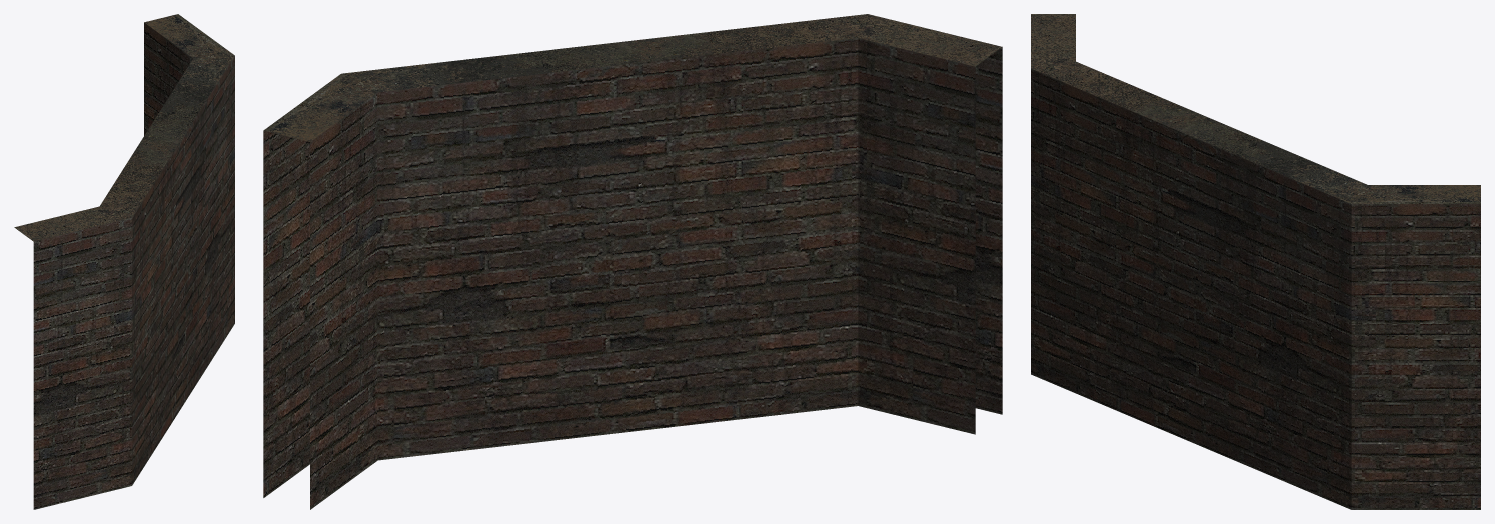
Rendered from wall_hs_1_m1a_1.glb.
3 views of the same model, side by side, from view 1: azimuth 30°, elevation 25°; view 2: azimuth 150°, elevation 25°; view 3: azimuth 270°, elevation 25° (orthographic). The views are drawn at different scales.
Visible parts, largest first — view 1: wall_hs_1_m1a_1; view 2: wall_hs_1_m1a_1; view 3: wall_hs_1_m1a_1.
Boxes of the visible parts, <box> form: wall_hs_1_m1a_1: <box>14,14,234,509</box>; wall_hs_1_m1a_1: <box>263,14,1002,509</box>; wall_hs_1_m1a_1: <box>1031,14,1480,509</box>.
Bounding box in the file's own units: 4 × 3 × 4.
2 materials, 2 textured.
